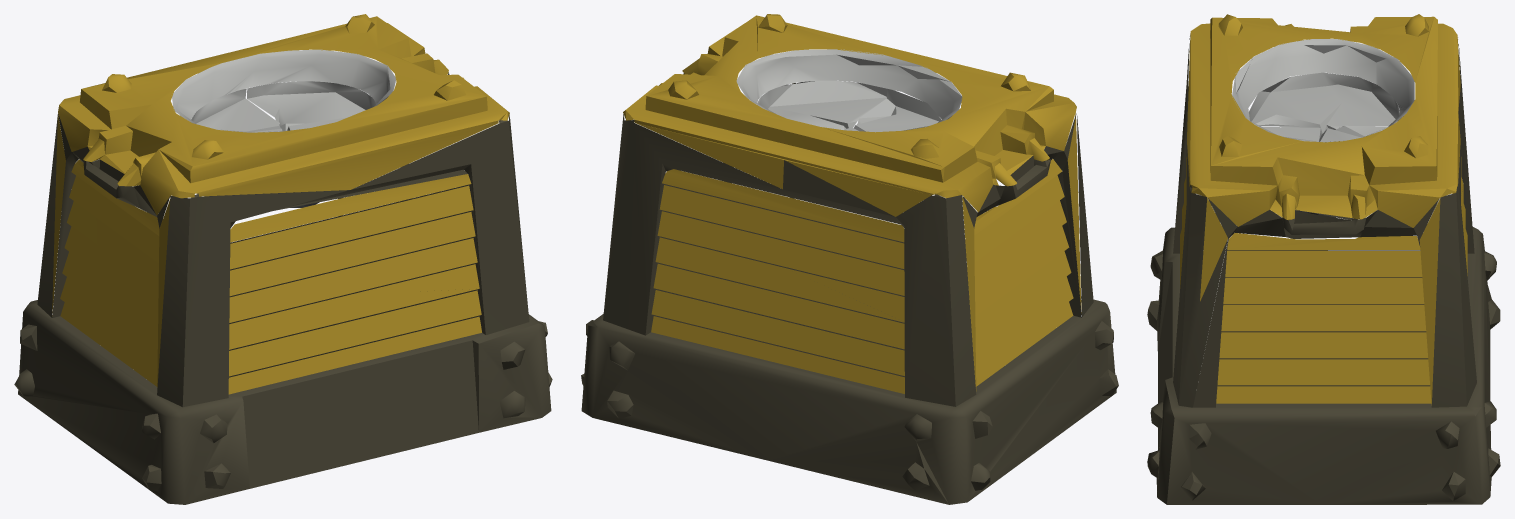
The model's file is storage-chest.glb.
3 views of the same model, side by side, from view 1: azimuth 30°, elevation 25°; view 2: azimuth 150°, elevation 25°; view 3: azimuth 270°, elevation 25° (orthographic). The views are drawn at different scales.
Visible parts, largest first — view 1: body, anim_hatch_e, anim_hatch_w; view 2: body, anim_hatch_e, anim_hatch_w; view 3: body, anim_hatch_w, anim_hatch_e.
Part boxes in pixels (x1,y1,x2,y2): body: (14,14,552,504); anim_hatch_e: (247,81,375,131); anim_hatch_w: (191,88,282,132); body: (581,14,1118,504); anim_hatch_e: (757,80,886,129); anim_hatch_w: (844,88,941,132); body: (1147,14,1500,504); anim_hatch_w: (1249,72,1399,134); anim_hatch_e: (1262,125,1388,142).
Bounding box in the file's own units: 1.01 × 0.7617 × 0.7356.
